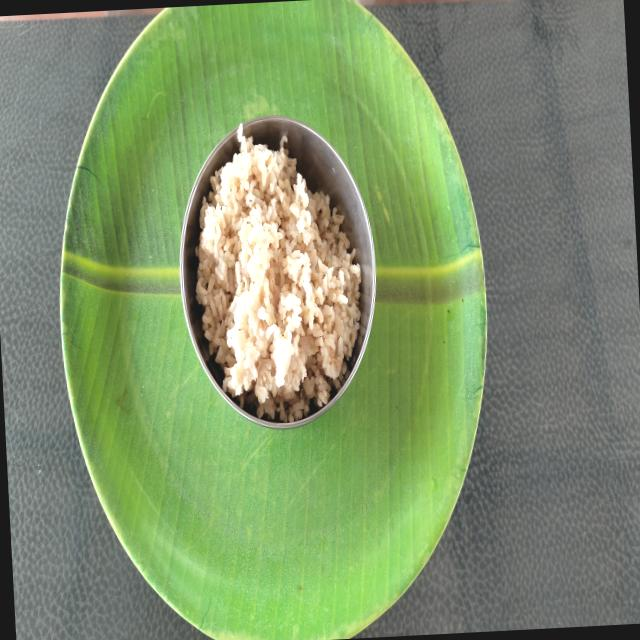brown-rice: (196, 128, 361, 423)
